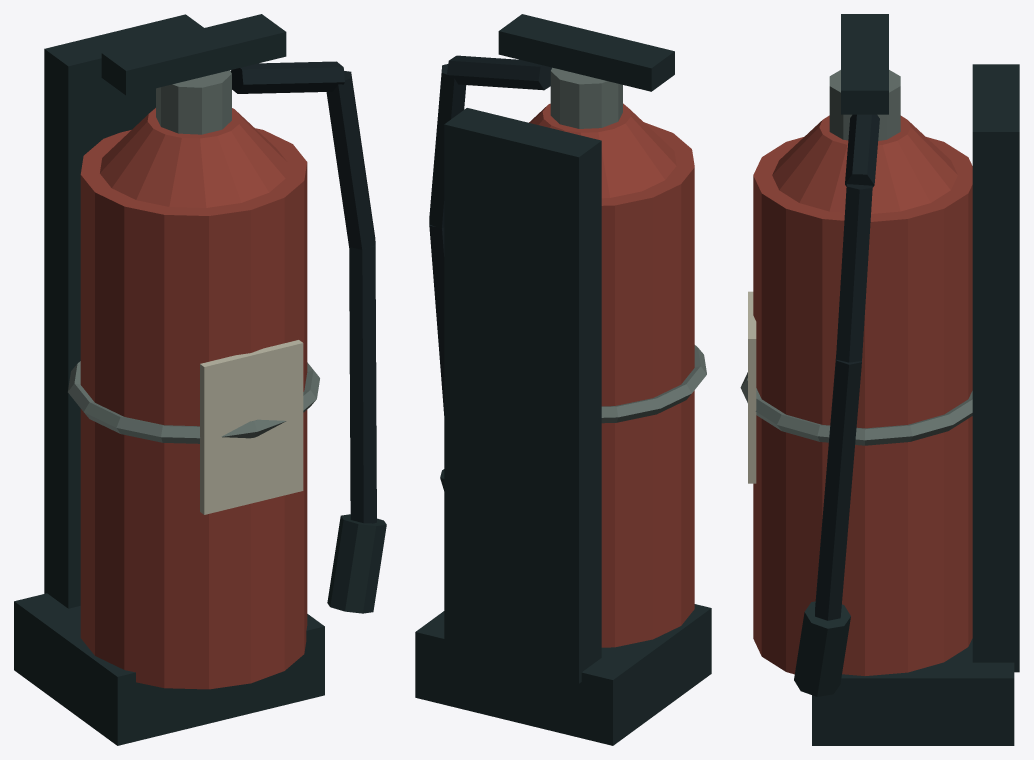
The model's file is fire-extinguisher.glb.
3 renders of one model, left to right at view 1: azimuth 30°, elevation 25°; view 2: azimuth 150°, elevation 25°; view 3: azimuth 270°, elevation 25°, orthographic. The views are drawn at different scales.
Parts seen in each view (by area): view 1: fire-extinguisher; view 2: fire-extinguisher; view 3: fire-extinguisher.
Boxes of the visible parts, bbox=[...] form: fire-extinguisher: bbox=[14, 14, 386, 745]; fire-extinguisher: bbox=[415, 14, 711, 745]; fire-extinguisher: bbox=[740, 14, 1019, 745].
Bounding box in the file's own units: 0.301 × 0.6675 × 0.262.
